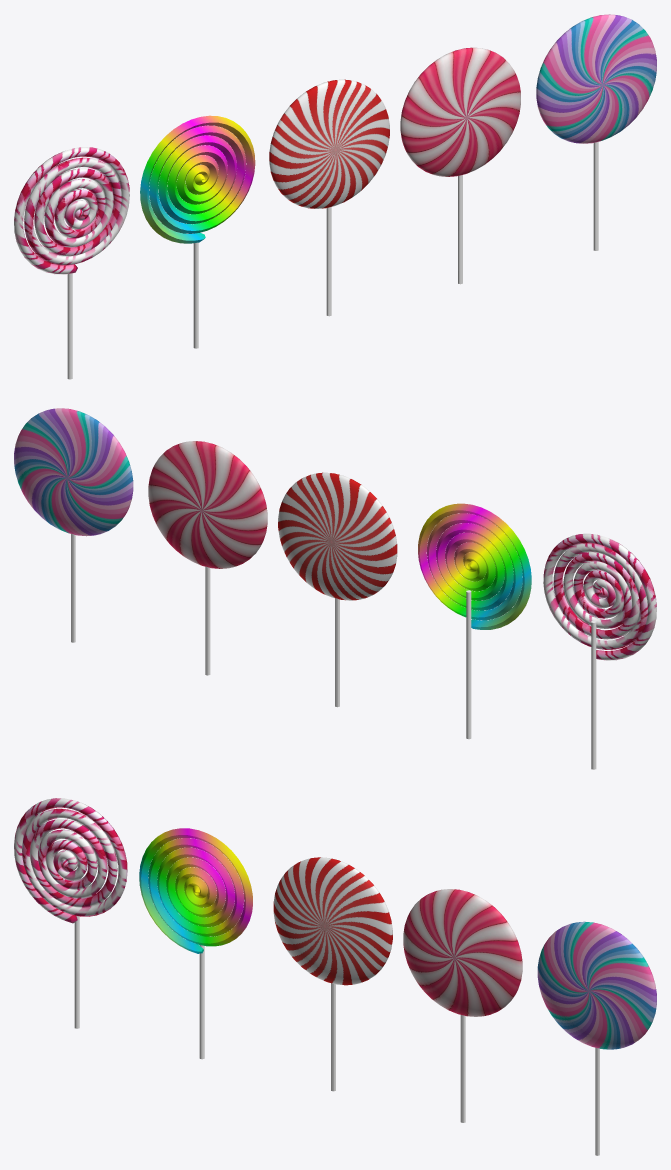
Rendered from Piruletas.fbx.
The picture shows the model from 3 angles, top to bottom: view 1: azimuth 30°, elevation 25°; view 2: azimuth 150°, elevation 25°; view 3: azimuth 330°, elevation 25°; orthographic projection.
Visible parts, largest first — view 1: GeoSphere003, GeoSphere001, GeoSphere002, Helix001, Helix002; view 2: GeoSphere002, GeoSphere003, GeoSphere001, Helix002, Helix001; view 3: GeoSphere002, GeoSphere003, GeoSphere001, Helix002, Helix001.
Part boxes in pixels (bbox=[...]): GeoSphere003: bbox=[536, 14, 656, 250]; GeoSphere001: bbox=[269, 79, 389, 316]; GeoSphere002: bbox=[400, 47, 520, 284]; Helix001: bbox=[14, 147, 129, 379]; Helix002: bbox=[140, 115, 255, 348]; GeoSphere002: bbox=[148, 441, 267, 675]; GeoSphere003: bbox=[14, 408, 133, 642]; GeoSphere001: bbox=[278, 472, 397, 707]; Helix002: bbox=[418, 503, 531, 739]; Helix001: bbox=[543, 533, 656, 769]; GeoSphere002: bbox=[403, 889, 522, 1122]; GeoSphere003: bbox=[537, 921, 656, 1155]; GeoSphere001: bbox=[273, 857, 392, 1091]; Helix002: bbox=[139, 828, 252, 1059]; Helix001: bbox=[14, 798, 127, 1028].
Size of the model in its own units: 141 by 48.64 by 7.39.
6 materials, 5 textured.
